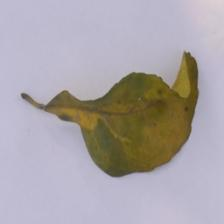greening: (16, 42, 212, 188)
